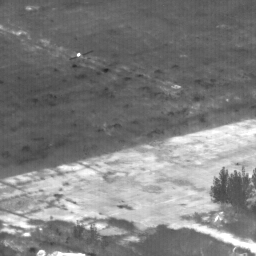aircraft: (78, 54, 80, 56)
